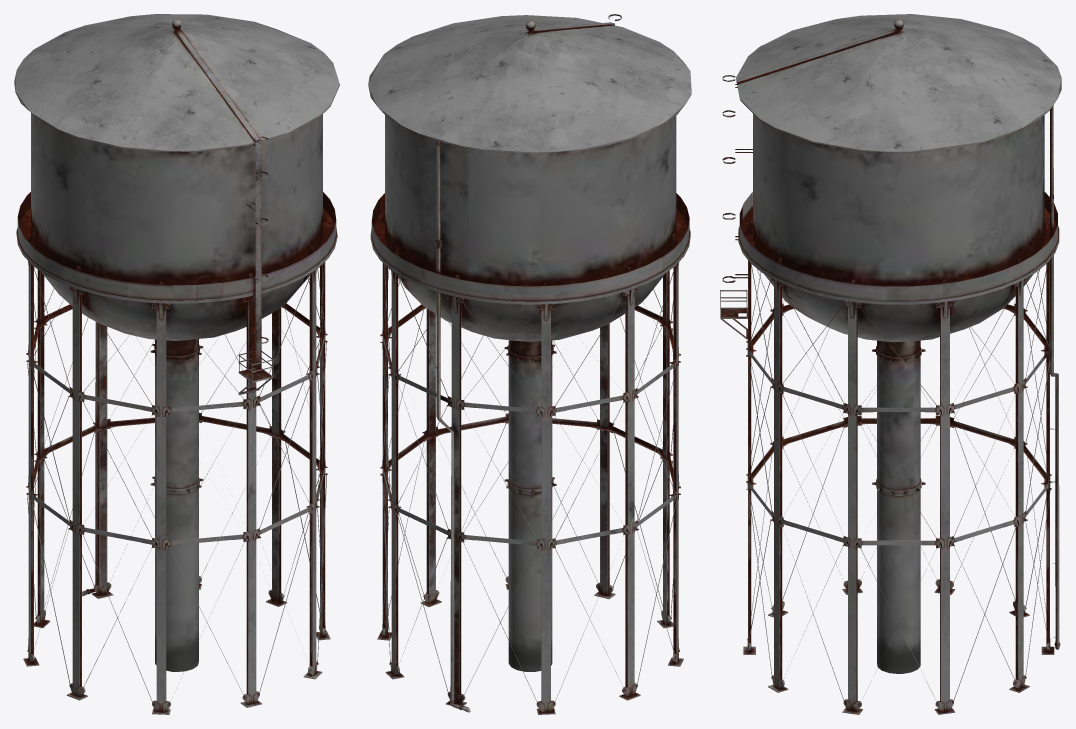
The model's file is water_tank.glb.
3 renders of one model, left to right at view 1: azimuth 30°, elevation 25°; view 2: azimuth 150°, elevation 25°; view 3: azimuth 270°, elevation 25°, orthographic.
Visible parts, largest first — view 1: 02_02_0, 01_01_0; view 2: 02_02_0, 01_01_0; view 3: 02_02_0, 01_01_0.
Part boxes in pixels (x1,y1,x2,y2): 02_02_0: [14, 14, 339, 671]; 01_01_0: [16, 19, 337, 714]; 02_02_0: [368, 15, 691, 671]; 01_01_0: [370, 14, 690, 714]; 02_02_0: [736, 14, 1061, 673]; 01_01_0: [720, 19, 1060, 714].
Bounding box in the file's own units: 17.19 × 37.54 × 18.02.
2 materials, 2 textured.
